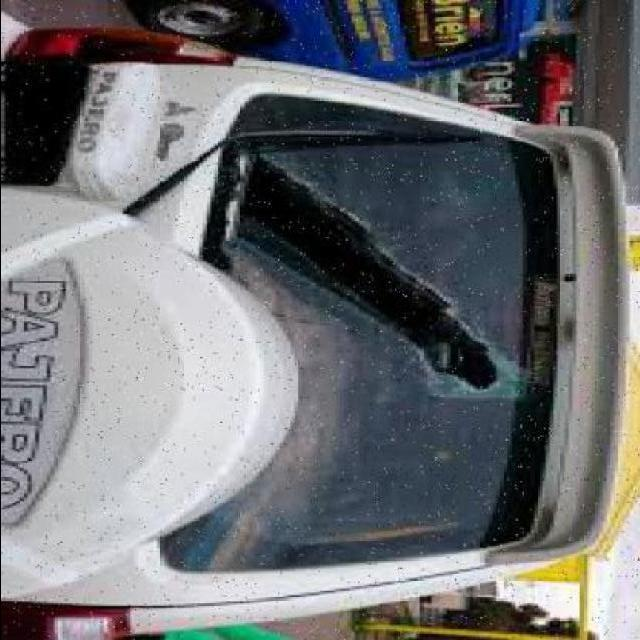Rear-windscreen-Damage: (148, 109, 560, 573)
